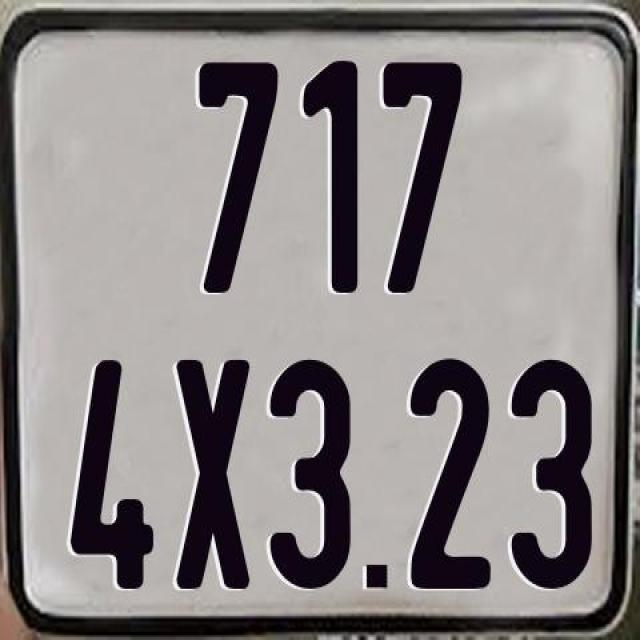1: (303, 60, 362, 298)
2: (406, 355, 494, 586)
3: (508, 357, 594, 592), (268, 358, 351, 594)
4: (68, 356, 158, 590)
7: (378, 60, 461, 298), (195, 58, 276, 292)
X: (173, 355, 247, 587)
